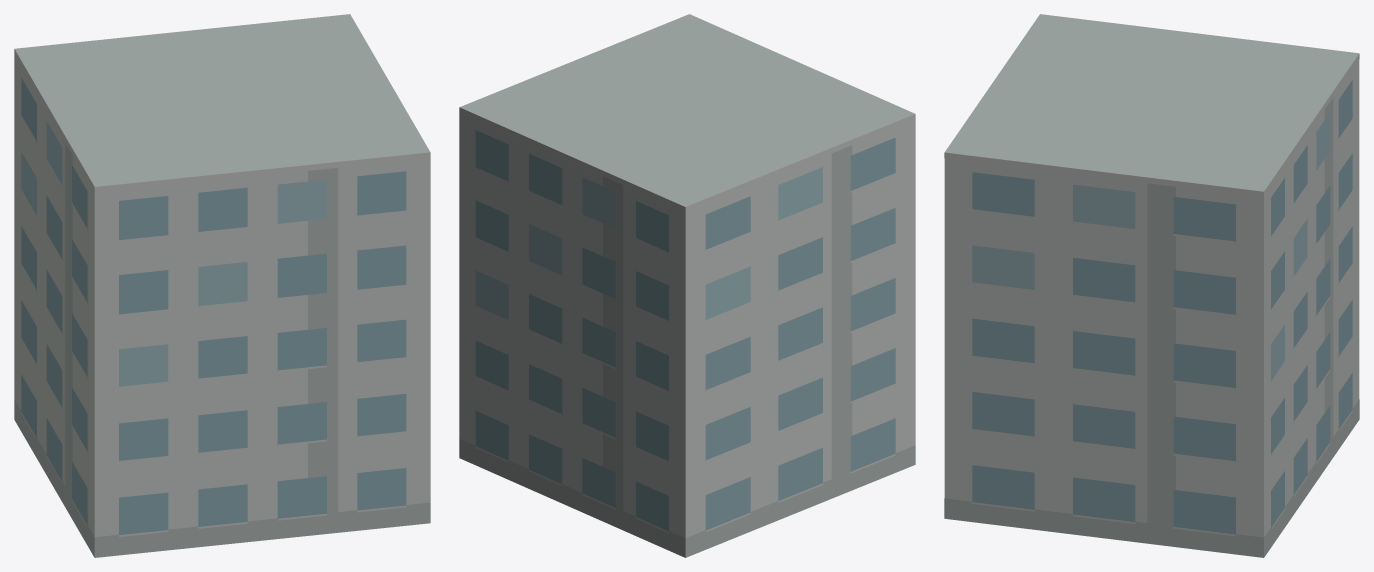
The model's file is residential-b5679e77-e1a6-414d-91be-98871007e466.glb.
3 views of the same model, side by side, from view 1: azimuth 30°, elevation 25°; view 2: azimuth 150°, elevation 25°; view 3: azimuth 270°, elevation 25° (orthographic). The views are drawn at different scales.
Parts seen in each view (by area): view 1: residential-b5679e77-e1a6-414d-91be-98871007e466.tmp; view 2: residential-b5679e77-e1a6-414d-91be-98871007e466.tmp; view 3: residential-b5679e77-e1a6-414d-91be-98871007e466.tmp.
Part boxes in pixels (x1,y1,x2,y2): residential-b5679e77-e1a6-414d-91be-98871007e466.tmp: (14, 14, 430, 557); residential-b5679e77-e1a6-414d-91be-98871007e466.tmp: (459, 14, 915, 557); residential-b5679e77-e1a6-414d-91be-98871007e466.tmp: (944, 14, 1359, 557).
Bounding box in the file's own units: 15.88 × 15.25 × 15.67.
